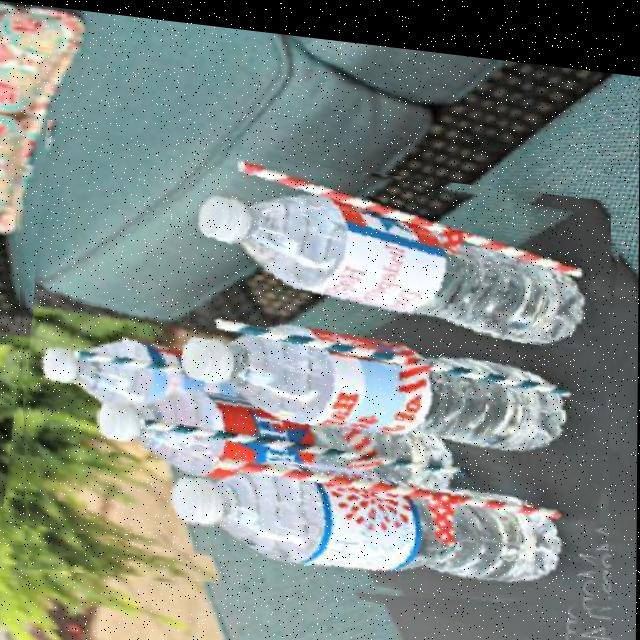litter: (13, 129, 611, 621), (159, 174, 590, 351), (181, 180, 254, 283)
